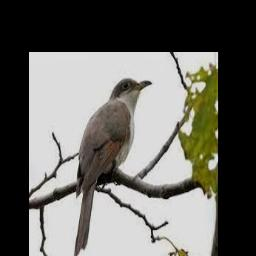Cuckoo: (74, 78, 152, 256)
